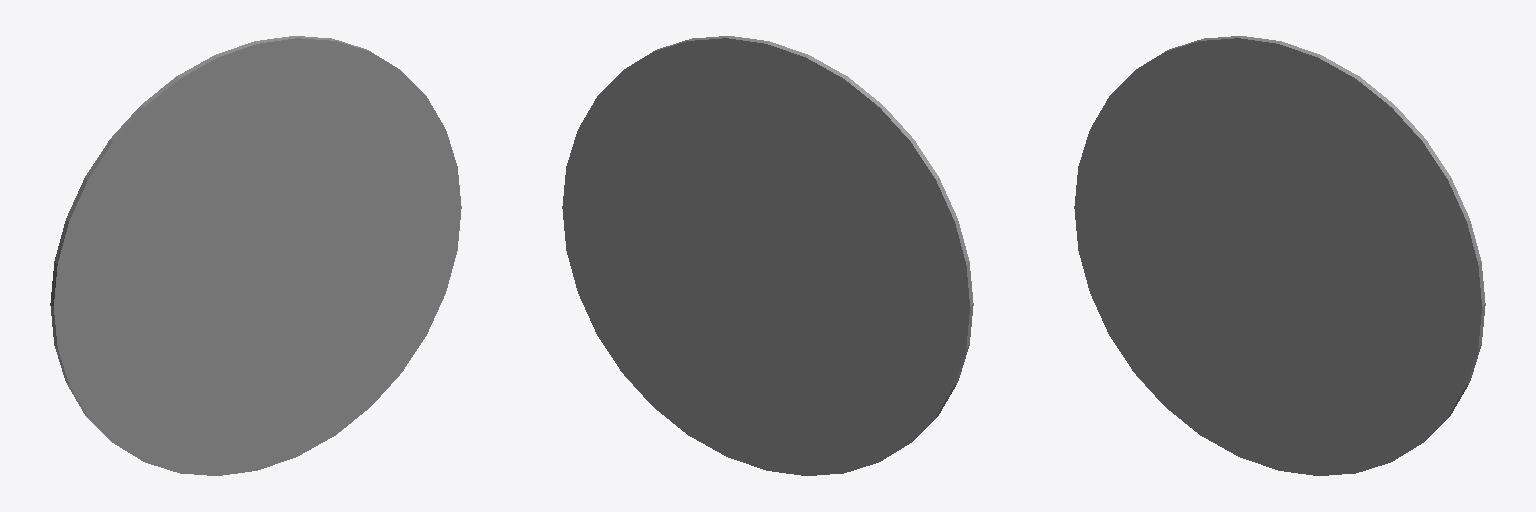
File: arm_base.OBJ
The picture shows the model from 3 angles: view 1: azimuth 30°, elevation 25°; view 2: azimuth 150°, elevation 25°; view 3: azimuth 330°, elevation 25°; orthographic projection.
Visible parts, largest first — view 1: arm_base_Cylinder.010; view 2: arm_base_Cylinder.010; view 3: arm_base_Cylinder.010.
Boxes of the visible parts, <box> form: arm_base_Cylinder.010: <box>50,36,461,475</box>; arm_base_Cylinder.010: <box>562,36,973,475</box>; arm_base_Cylinder.010: <box>1074,36,1485,475</box>.
Bounding box in the file's own units: 1.48 × 1.48 × 0.0211.